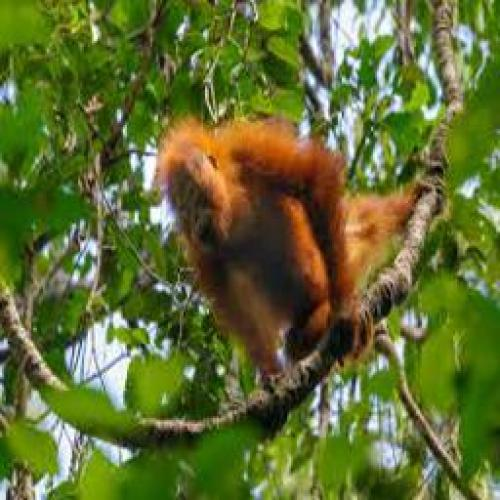orangutan-endangered: (158, 122, 396, 365)
